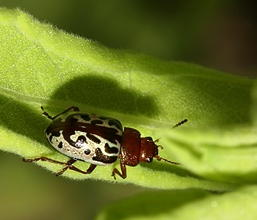Calligrapha beetle: (31, 97, 189, 196)
